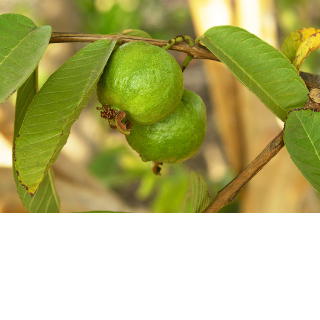oi: (97, 38, 185, 122), (121, 84, 207, 166)
